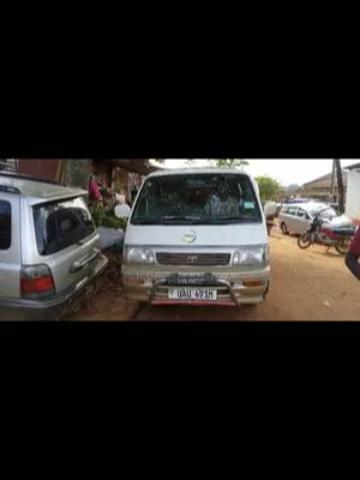van: (114, 164, 266, 307)
